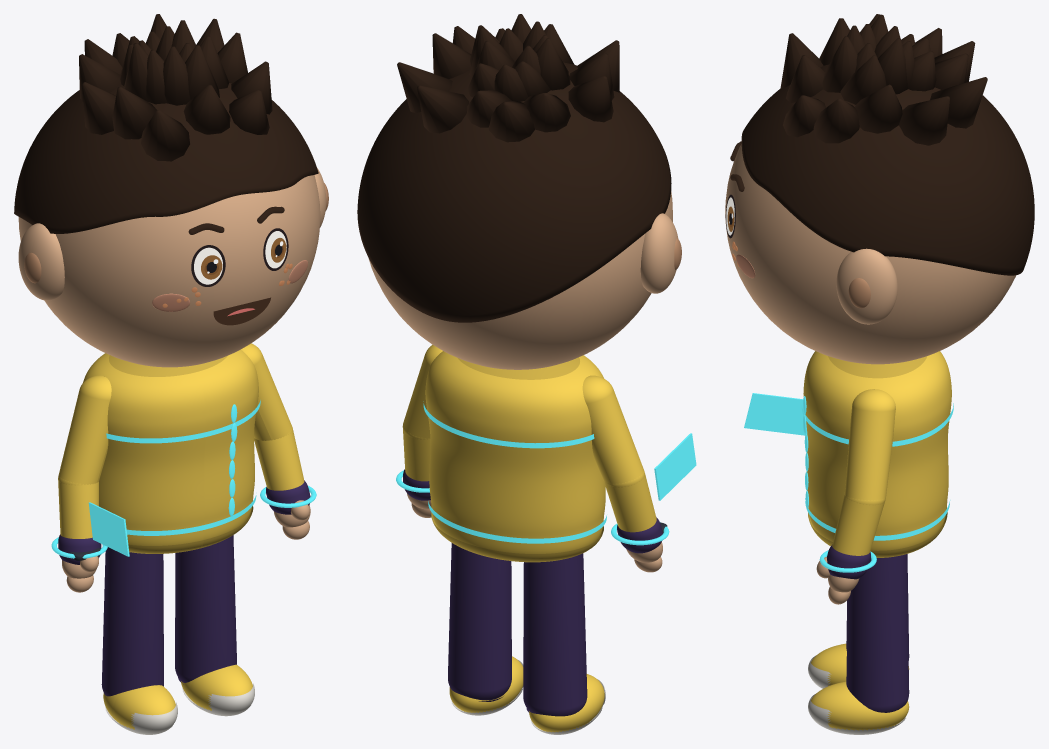
Rendered from kind_holo.glb.
The picture shows the model from 3 angles, left to right: view 1: azimuth 30°, elevation 25°; view 2: azimuth 150°, elevation 25°; view 3: azimuth 270°, elevation 25°; orthographic projection. The views are drawn at different scales.
Visible parts, largest first — view 1: kind_holo_hoofd, kind_holo_haar, kind_holo_romp, kind_holo_been_R, kind_holo_been_L, kind_holo_bovenarm_R, kind_holo_oor_R, kind_holo_bovenarm_L, kind_holo_onderarm_L, kind_holo_onderarm_R, kind_holo_schoen_R, kind_holo_haar_piek8 (+25 smaller); view 2: kind_holo_haar, kind_holo_romp, kind_holo_hoofd, kind_holo_been_R, kind_holo_been_L, kind_holo_bovenarm_R, kind_holo_oor_R, kind_holo_onderarm_R, kind_holo_haar_piek20, kind_holo_schoen_R, kind_holo_haar_piek4, kind_holo_haar_piek0 (+20 smaller); view 3: kind_holo_haar, kind_holo_hoofd, kind_holo_romp, kind_holo_been_L, kind_holo_bovenarm_L, kind_holo_oor_L, kind_holo_schoen_L, kind_holo_onderarm_L, kind_holo_hologram, kind_holo_haar_piek18, kind_holo_haar_piek16, kind_holo_haar_piek20 (+18 smaller).
Part boxes in pixels (<box>): kind_holo_hoofd: <box>18,175,320,367</box>; kind_holo_haar: <box>14,83,318,233</box>; kind_holo_romp: <box>83,349,258,545</box>; kind_holo_been_R: <box>101,547,163,696</box>; kind_holo_been_L: <box>175,535,236,682</box>; kind_holo_bovenarm_R: <box>58,375,111,484</box>; kind_holo_oor_R: <box>18,223,64,300</box>; kind_holo_bovenarm_L: <box>241,343,292,440</box>; kind_holo_onderarm_L: <box>254,430,304,490</box>; kind_holo_onderarm_R: <box>58,476,98,538</box>; kind_holo_schoen_R: <box>103,685,175,729</box>; kind_holo_haar_piek8: <box>141,110,189,161</box>; kind_holo_haar: <box>357,62,671,322</box>; kind_holo_romp: <box>425,351,605,553</box>; kind_holo_hoofd: <box>368,192,672,369</box>; kind_holo_been_R: <box>523,553,587,716</box>; kind_holo_been_L: <box>448,543,511,700</box>; kind_holo_bovenarm_R: <box>582,375,644,487</box>; kind_holo_oor_R: <box>640,213,678,293</box>; kind_holo_onderarm_R: <box>604,474,656,532</box>; kind_holo_haar_piek20: <box>417,85,469,133</box>; kind_holo_schoen_R: <box>529,674,604,732</box>; kind_holo_haar_piek4: <box>568,76,613,122</box>; kind_holo_haar_piek0: <box>488,100,534,142</box>; kind_holo_haar: <box>741,64,1034,275</box>; kind_holo_hoofd: <box>725,144,1015,364</box>; kind_holo_romp: <box>803,351,951,550</box>; kind_holo_been_L: <box>846,554,909,712</box>; kind_holo_bovenarm_L: <box>844,389,895,504</box>; kind_holo_oor_L: <box>836,248,897,324</box>; kind_holo_schoen_L: <box>811,681,909,730</box>; kind_holo_onderarm_L: <box>832,495,884,555</box>; kind_holo_hologram: <box>744,393,807,435</box>; kind_holo_haar_piek18: <box>899,96,949,145</box>; kind_holo_haar_piek16: <box>854,84,902,133</box>; kind_holo_haar_piek20: <box>930,77,987,128</box>.
Size of the model in its own units: 0.6198 by 1.34 by 0.5481.
